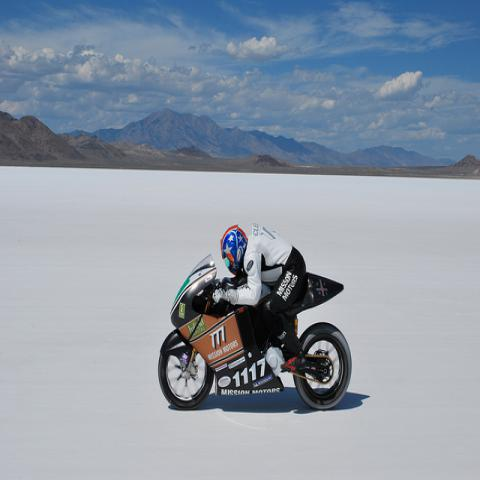motorcycle: (158, 256, 353, 413)
